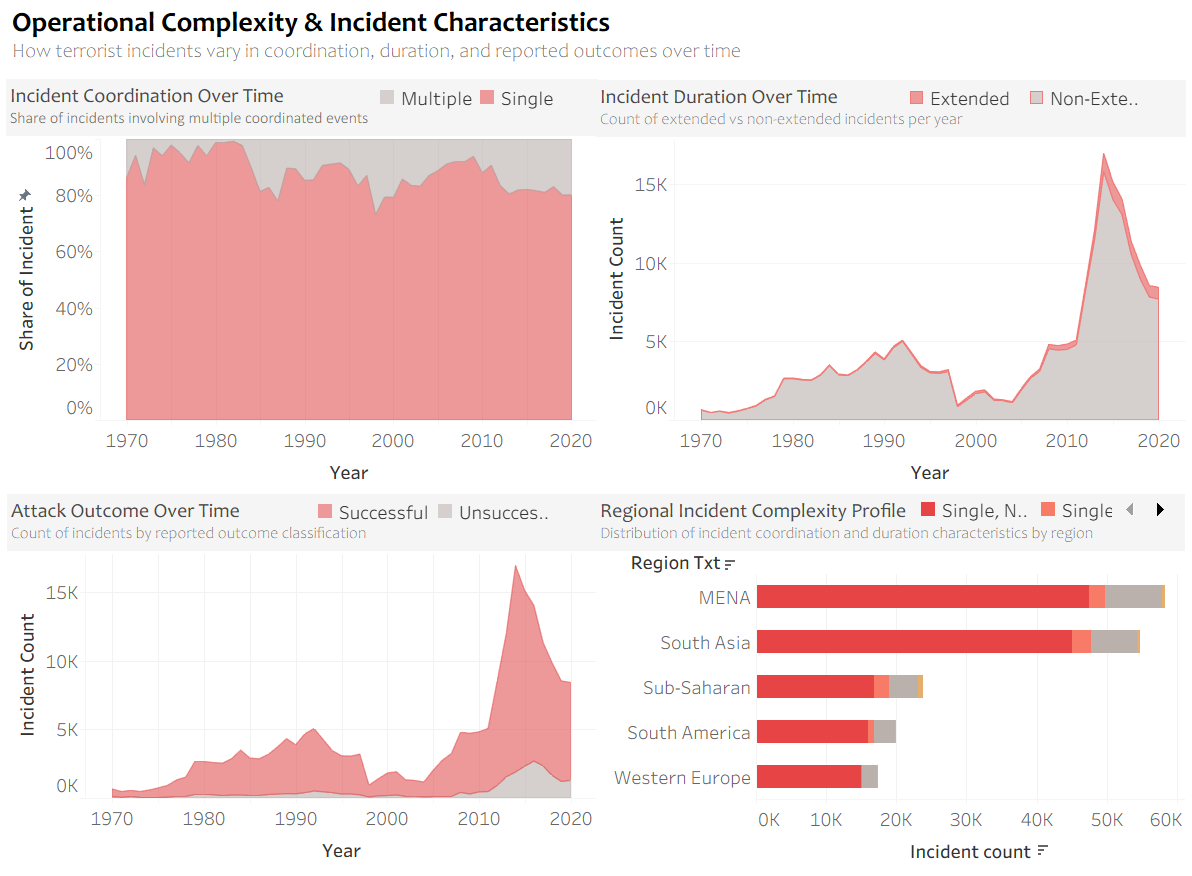

This screenshot's page, from the dashboard's own definition file:
{"tool":"tableau","page":{"name":"D3 - Operational Complexity & Incident Characteristics","canvas":[1200,900],"ordinal":2},"visuals":[{"type":"text","box":[8,8,1184,88]},{"type":"worksheet","title":"Incident Coordination Over Time","mark":"Area","cols":["iyear"],"box":[10,97,592,412]},{"type":"worksheet","title":"Incident Duration Over Time","mark":"Area","rows":["Calculation_1593778813493250"],"cols":["iyear"],"box":[600,98,590,411]},{"type":"legend","title":"Incident Coordination Over Time","param":"[federated.1e4z73b0k8920x141qt450b07ayp].[none:Calculation_1588831252910081:nk]","box":[379,103,216,25]},{"type":"legend","title":"Incident Duration Over Time","param":"[federated.1e4z73b0k8920x141qt450b07ayp].[none:Calculation_1588831256571911:nk]","box":[908,103,271,25]},{"type":"worksheet","title":"Attack Outcome Over Time","mark":"Area","rows":["Calculation_1593778813493250"],"cols":["iyear"],"box":[11,512,591,375]},{"type":"worksheet","title":"Regional Incident Complexity Profile","mark":"Automatic","rows":["region_txt"],"cols":["eventid"],"box":[600,512,589,376]},{"type":"legend","title":"Regional Incident Complexity Profile","param":"[federated.1e4z73b0k8920x141qt450b07ayp].[none:Calculation_1588831260676104:nk]","box":[920,515,262,25]},{"type":"legend","title":"Attack Outcome Over Time","param":"[federated.1e4z73b0k8920x141qt450b07ayp].[none:Calculation_1593778832302088:nk]","box":[317,517,278,25]}]}

Visuals, with their boxes in screenshot pixels (x1, y1, x2, y2), scaled from the page's 1200x900 canvas onto the 1192x876 screenshot:
text: 8,8,1184,93
"Incident Coordination Over Time" worksheet (Area marks): 10,94,598,495
"Incident Duration Over Time" worksheet (Area marks): 596,95,1182,495
"Incident Coordination Over Time" legend: 376,100,591,125
"Incident Duration Over Time" legend: 902,100,1171,125
"Attack Outcome Over Time" worksheet (Area marks): 11,498,598,863
"Regional Incident Complexity Profile" worksheet: 596,498,1181,864
"Regional Incident Complexity Profile" legend: 914,501,1174,526
"Attack Outcome Over Time" legend: 315,503,591,528
